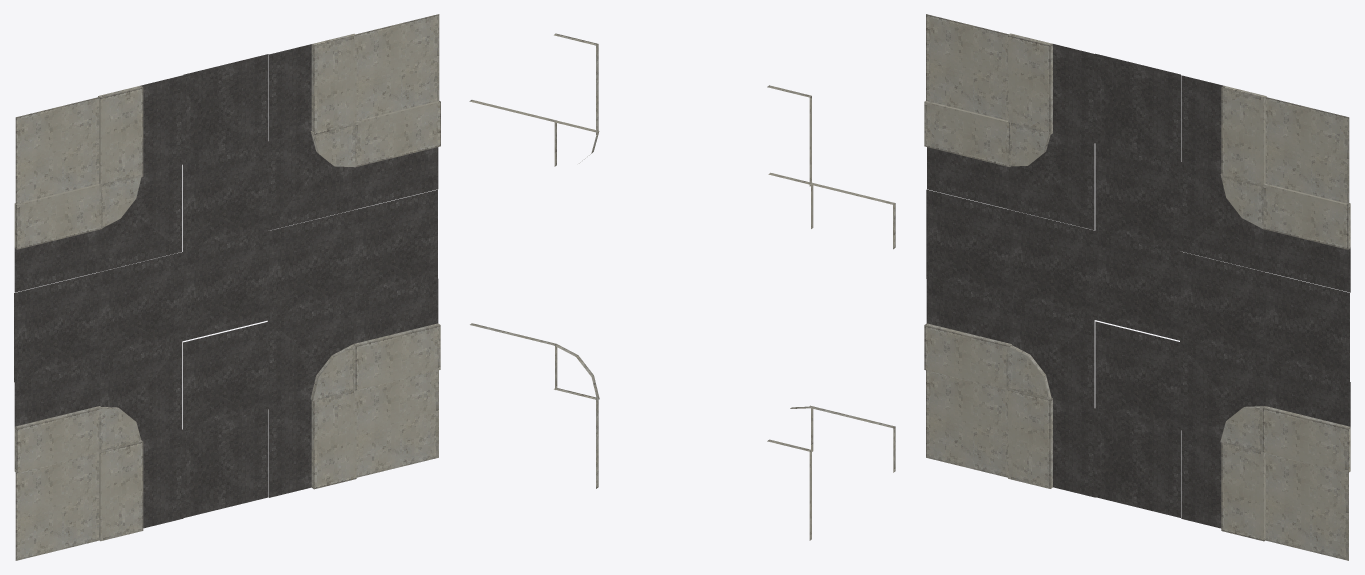
File: road-intersection_city.glb
3 views of the same model, side by side, from view 1: azimuth 30°, elevation 25°; view 2: azimuth 150°, elevation 25°; view 3: azimuth 330°, elevation 25° (orthographic).
Parts seen in each view (by area): view 1: road-asphalt-center.005; view 2: road-asphalt-center.005; view 3: road-asphalt-center.005.
Boxes of the visible parts, x1,y1,x2,y2 form: road-asphalt-center.005: (14,14,440,560); road-asphalt-center.005: (469,33,895,540); road-asphalt-center.005: (924,14,1350,560).
Size of the model in its own units: 4.97 by 4.97 by 0.05.
Materials: 37 (37 with a texture image).
